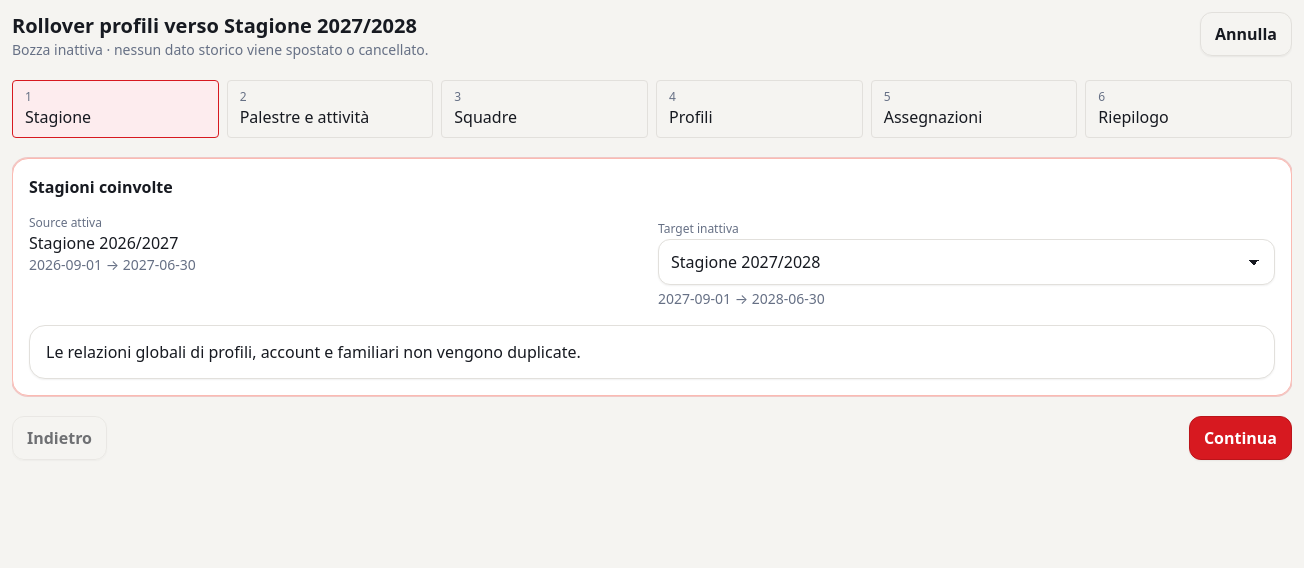
Test: SeasonRolloverWizard › shows a server failure and retries the failed step
Step 1. Click the button "Continua" → click(1240, 438), box [1189,416,1292,460]
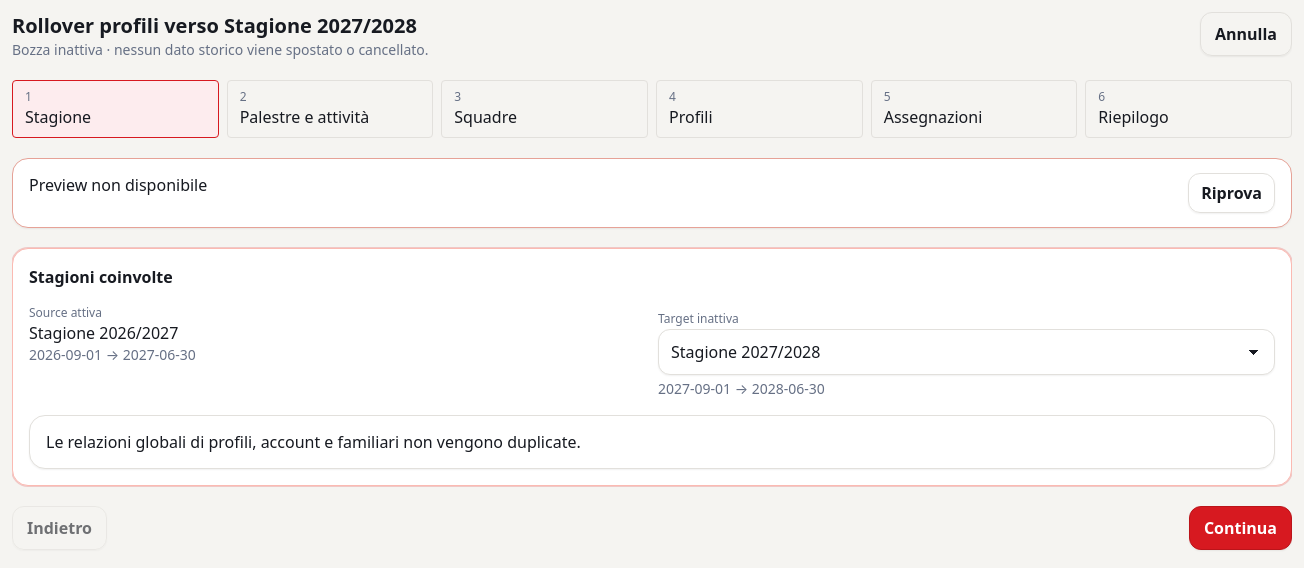
Check: the message shows "Preview non disponibile", box [29,174,207,196]
Step 2. Click the button "Riprova" → click(1232, 193), box [1188,173,1275,213]
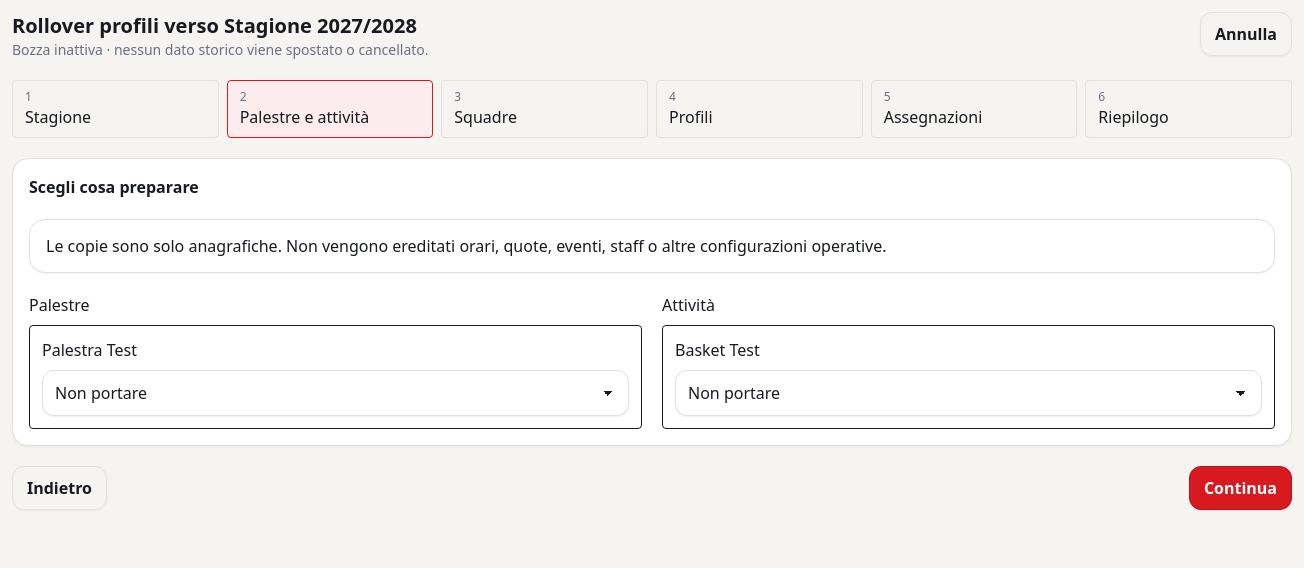
Check: the text "Palestra Test" is shown, box [42,339,137,361]
